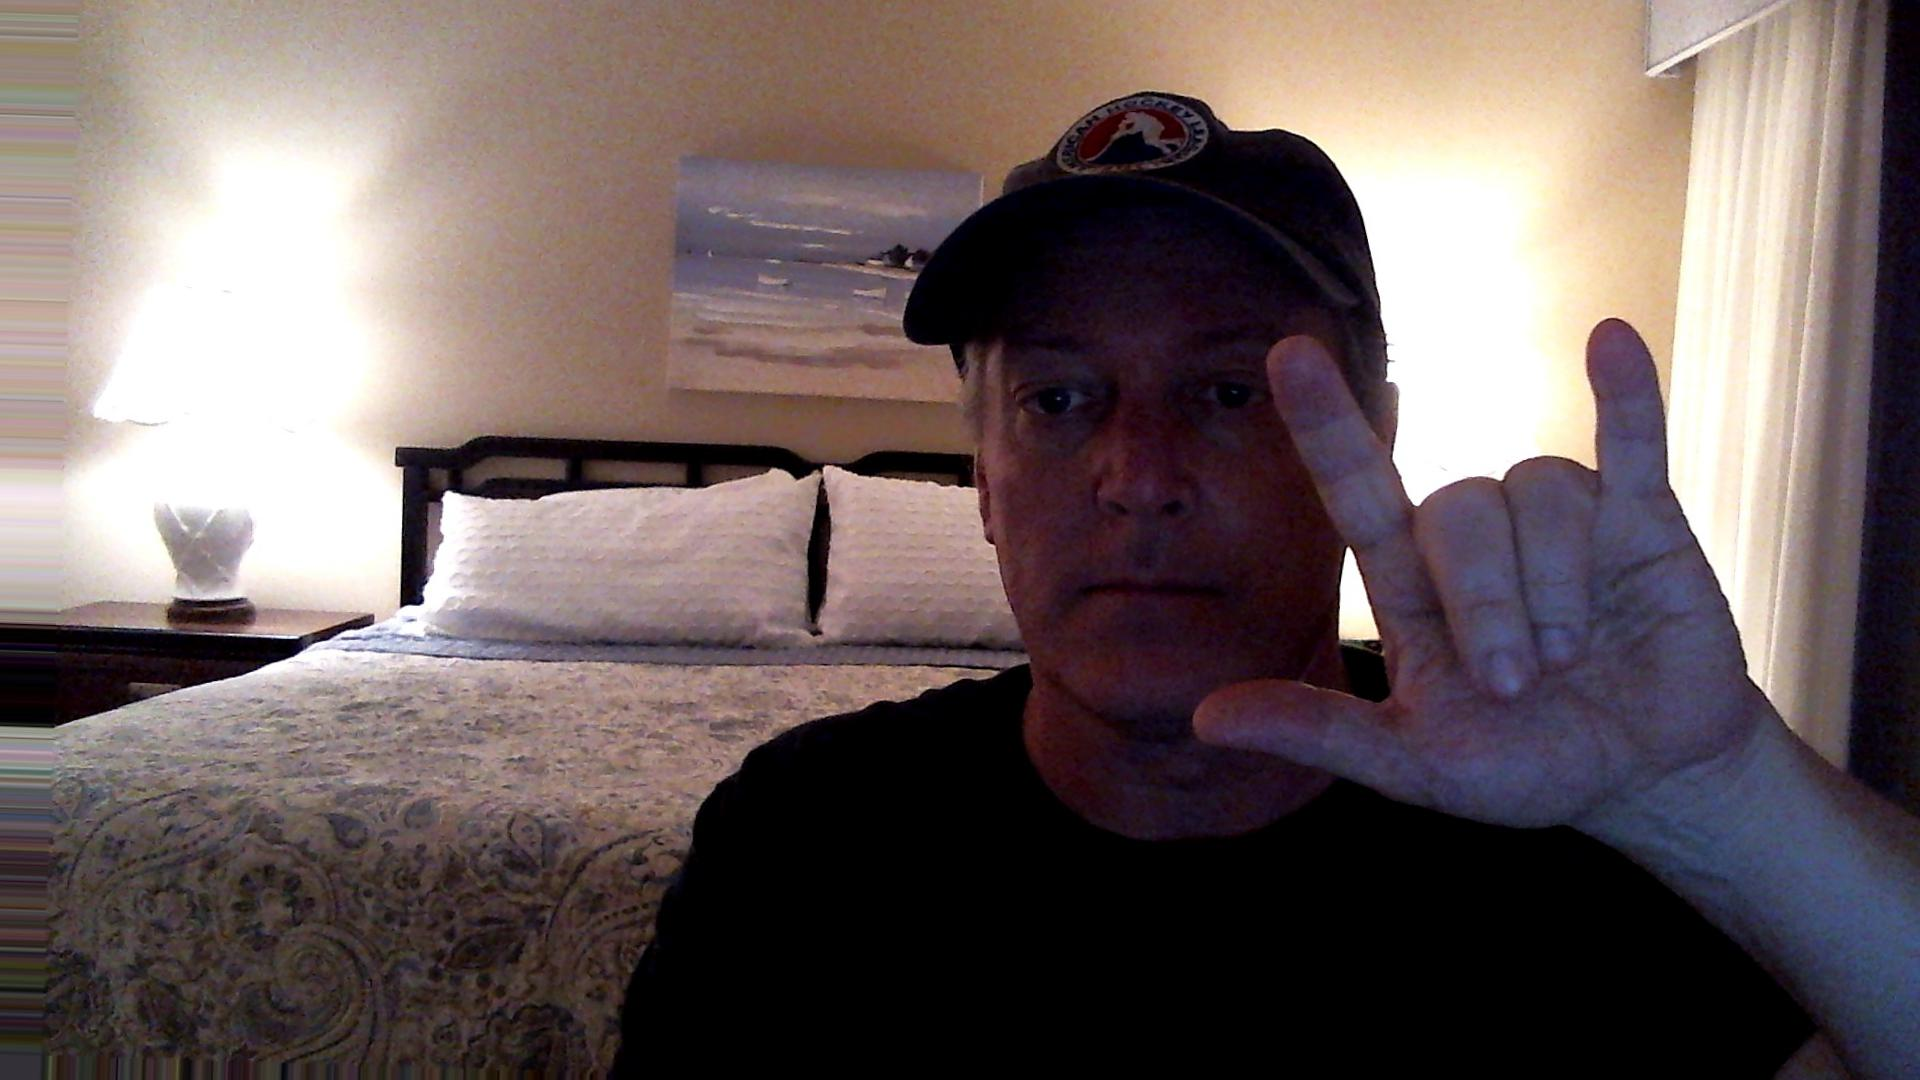I Love You: (1183, 301, 1783, 832)
